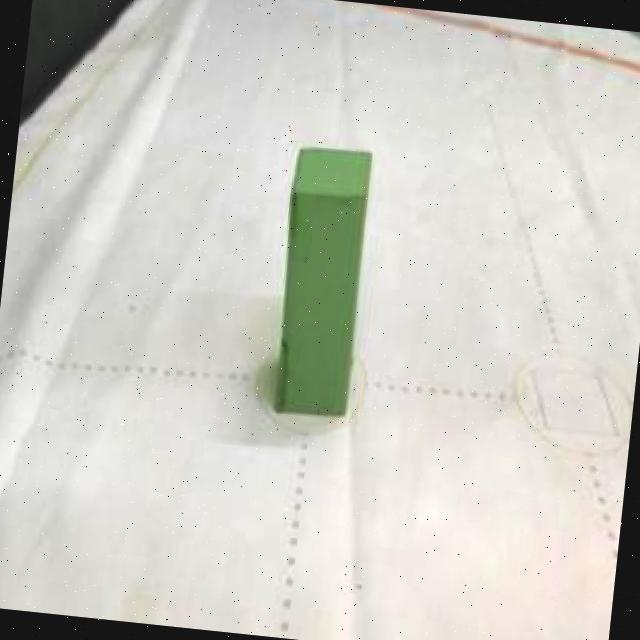greenbox: (264, 139, 378, 417)
